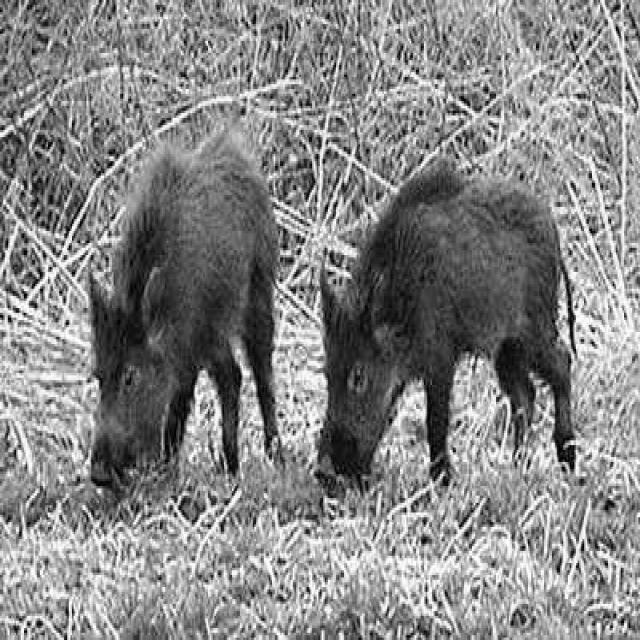boar: (315, 156, 573, 474), (88, 128, 277, 479)
